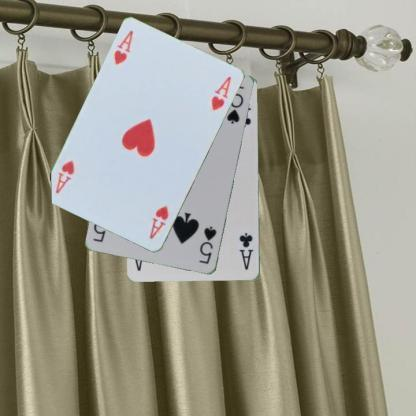5s: (196, 223, 218, 266)
Ac: (237, 230, 255, 271)
Ah: (147, 203, 170, 241), (112, 28, 134, 66)
